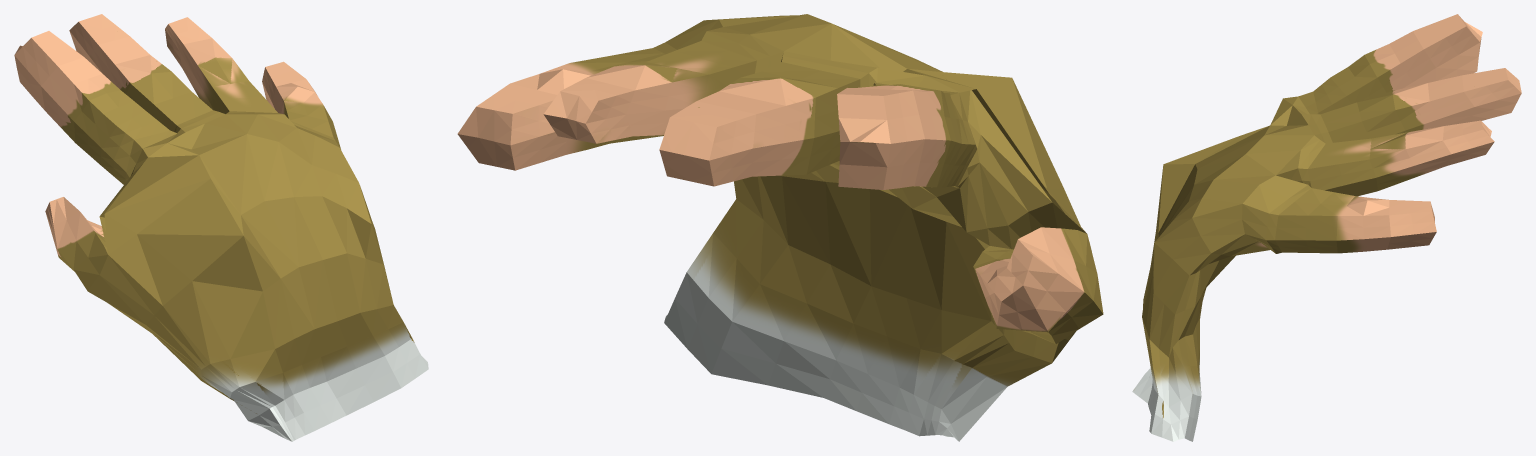
The model's file is flexion0033.obj.
The picture shows the model from 3 angles, left to right: view 1: azimuth 30°, elevation 25°; view 2: azimuth 150°, elevation 25°; view 3: azimuth 270°, elevation 25°; orthographic projection. The views are drawn at different scales.
Visible parts, largest first — view 1: Hand; view 2: Hand; view 3: Hand.
Boxes of the visible parts, x1,y1,x2,y2 form: Hand: (14,14,428,441); Hand: (457,14,1103,441); Hand: (1132,14,1521,441).
Bounding box in the file's own units: 3.27 × 3.31 × 3.52.
